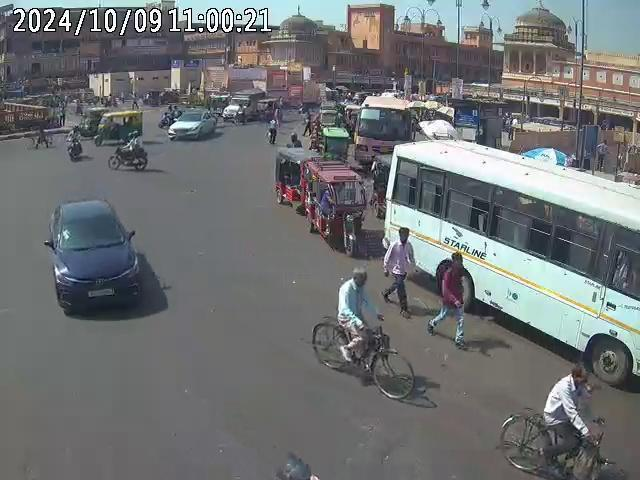auto: (304, 156, 368, 258), (96, 110, 143, 147)
bicycle-rider: (497, 359, 620, 479), (310, 265, 416, 398)
bus: (384, 135, 640, 387), (352, 92, 413, 166)
car: (47, 197, 143, 318), (166, 108, 217, 141)
license_plate: (87, 288, 116, 298)
motorbike-rider: (108, 132, 148, 172)
person: (431, 250, 472, 349), (381, 228, 412, 315), (35, 118, 55, 149), (266, 118, 278, 145)
scooty-rider: (65, 125, 85, 162)
